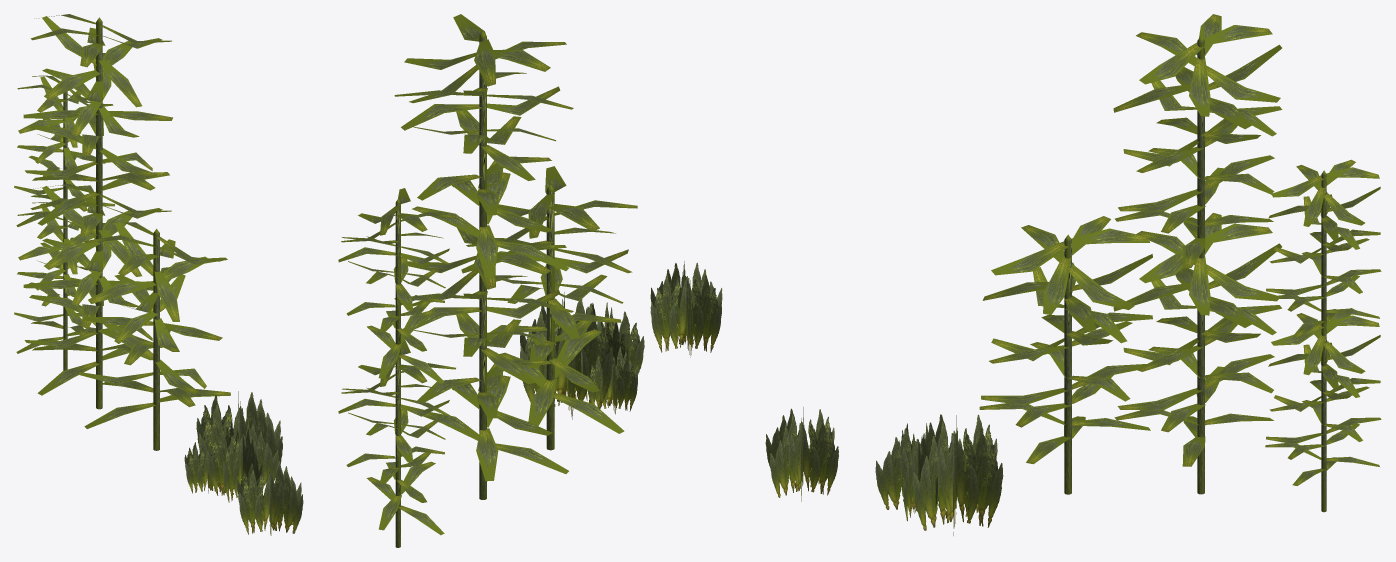
Rendered from Kelp_SeaGrass_LowPoly.fbx.
The picture shows the model from 3 angles, left to right: view 1: azimuth 30°, elevation 25°; view 2: azimuth 150°, elevation 25°; view 3: azimuth 270°, elevation 25°; orthographic projection. The views are drawn at different scales.
Visible parts, largest first — view 1: Kelp_Tree_TallSkinny, Kelp_Tree_MidSkinny, GrassPlane2 (×3), GrassPlane (×4), Kelp_Tree_Short, pPlane12, pPlane14, pPlane4, pPlane7, pPlane9, GrassPlane3, pPlane10 (+6 smaller); view 2: Kelp_Tree_TallSkinny, Kelp_Tree_MidSkinny, GrassPlane (×4), GrassPlane3 (×3), Kelp_Tree_Short, pPlane5, pPlane4, GrassPlane2 (×2), pPlane16, pPlane9, pPlane15, pPlane6 (+5 smaller); view 3: Kelp_Tree_TallSkinny, Kelp_Tree_MidSkinny, GrassPlane3 (×3), GrassPlane2 (×3), pPlane16, Kelp_Tree_Short, pPlane13, pPlane15, pPlane7, pPlane12, pPlane5, pPlane8 (+4 smaller).
Part boxes in pixels (bbox=[...]): Kelp_Tree_TallSkinny: bbox=[23, 14, 172, 409]; Kelp_Tree_MidSkinny: bbox=[14, 75, 114, 370]; GrassPlane2 (×3): bbox=[196, 395, 303, 533]; GrassPlane (×4): bbox=[185, 392, 301, 534]; Kelp_Tree_Short: bbox=[153, 228, 159, 450]; pPlane12: bbox=[114, 221, 179, 321]; pPlane14: bbox=[88, 256, 207, 303]; pPlane4: bbox=[84, 389, 230, 428]; pPlane7: bbox=[97, 329, 199, 393]; pPlane9: bbox=[82, 317, 222, 340]; GrassPlane3: bbox=[225, 421, 261, 481]; pPlane10: bbox=[114, 274, 179, 351]; Kelp_Tree_TallSkinny: bbox=[394, 14, 573, 499]; Kelp_Tree_MidSkinny: bbox=[338, 188, 455, 547]; GrassPlane (×4): bbox=[520, 263, 721, 411]; GrassPlane3 (×3): bbox=[520, 262, 722, 408]; Kelp_Tree_Short: bbox=[546, 184, 554, 450]; pPlane5: bbox=[528, 329, 601, 426]; pPlane4: bbox=[499, 352, 624, 433]; GrassPlane2 (×2): bbox=[586, 261, 692, 366]; pPlane16: bbox=[528, 166, 566, 238]; pPlane9: bbox=[540, 264, 579, 338]; pPlane15: bbox=[497, 204, 599, 231]; pPlane6: bbox=[529, 332, 600, 392]; Kelp_Tree_TallSkinny: bbox=[1113, 14, 1282, 494]; Kelp_Tree_MidSkinny: bbox=[1265, 159, 1381, 512]; GrassPlane3 (×3): bbox=[765, 408, 1003, 527]; GrassPlane2 (×3): bbox=[770, 409, 997, 530]; pPlane16: bbox=[991, 228, 1150, 275]; Kelp_Tree_Short: bbox=[1064, 234, 1071, 494]; pPlane13: bbox=[1021, 225, 1134, 309]; pPlane15: bbox=[1043, 216, 1110, 314]; pPlane7: bbox=[981, 364, 1146, 405]; pPlane12: bbox=[982, 254, 1152, 300]; pPlane5: bbox=[979, 403, 1150, 430]; pPlane8: bbox=[1030, 342, 1130, 401].
Size of the model in its own units: 2.03 by 5.15 by 6.25.
2 materials, 2 textured.
